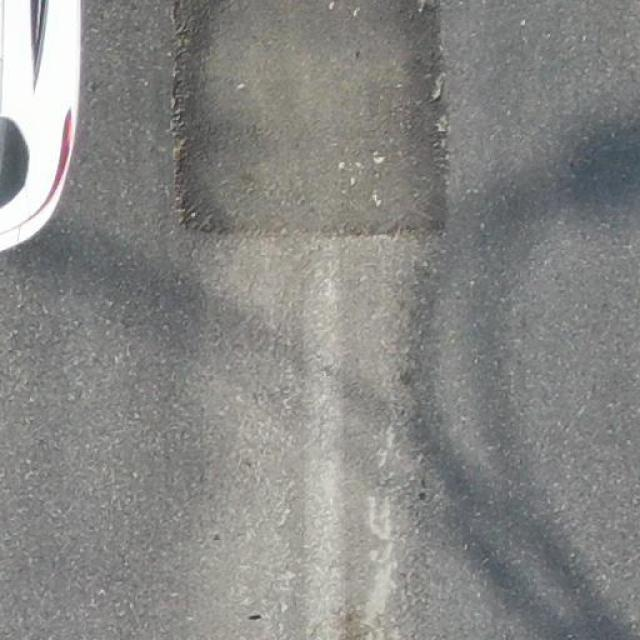GRIETA: (358, 495, 396, 639)
PARCHE: (175, 0, 439, 236)
